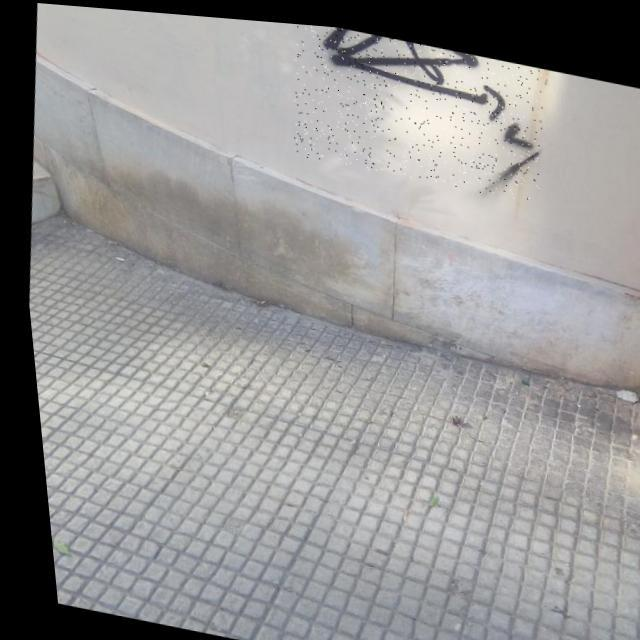-: (279, 18, 552, 196)
